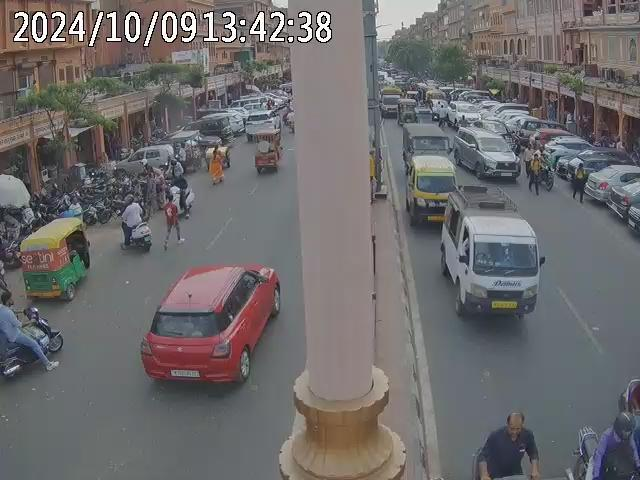auto: (18, 216, 91, 304), (252, 126, 283, 175), (397, 97, 417, 124)
bicycle-rider: (525, 150, 554, 192)
bus: (437, 180, 545, 330), (405, 153, 453, 226)
car: (138, 262, 279, 396), (454, 125, 522, 181), (582, 163, 639, 208), (540, 136, 595, 173), (450, 100, 486, 127)
helmet: (0, 288, 13, 305)
license_plate: (172, 368, 200, 378), (490, 298, 517, 308)
person: (163, 195, 182, 243), (208, 144, 229, 184)
scooty-rider: (0, 286, 62, 385), (118, 198, 150, 250)
